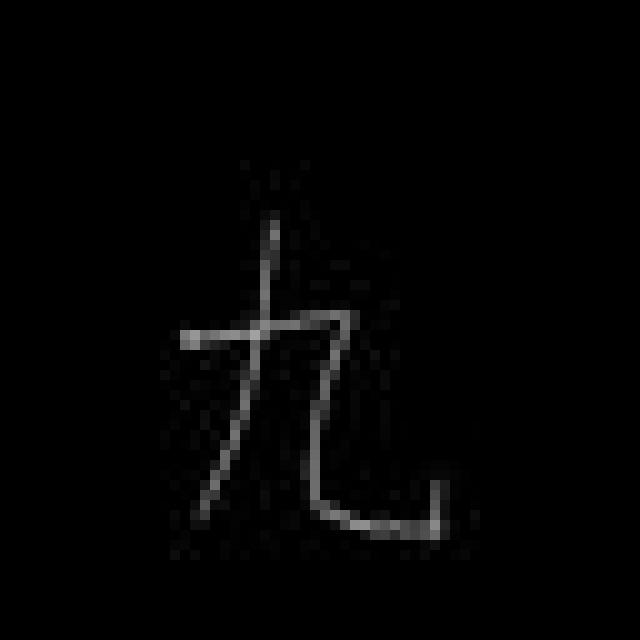9 -nine-: (171, 218, 451, 550)
